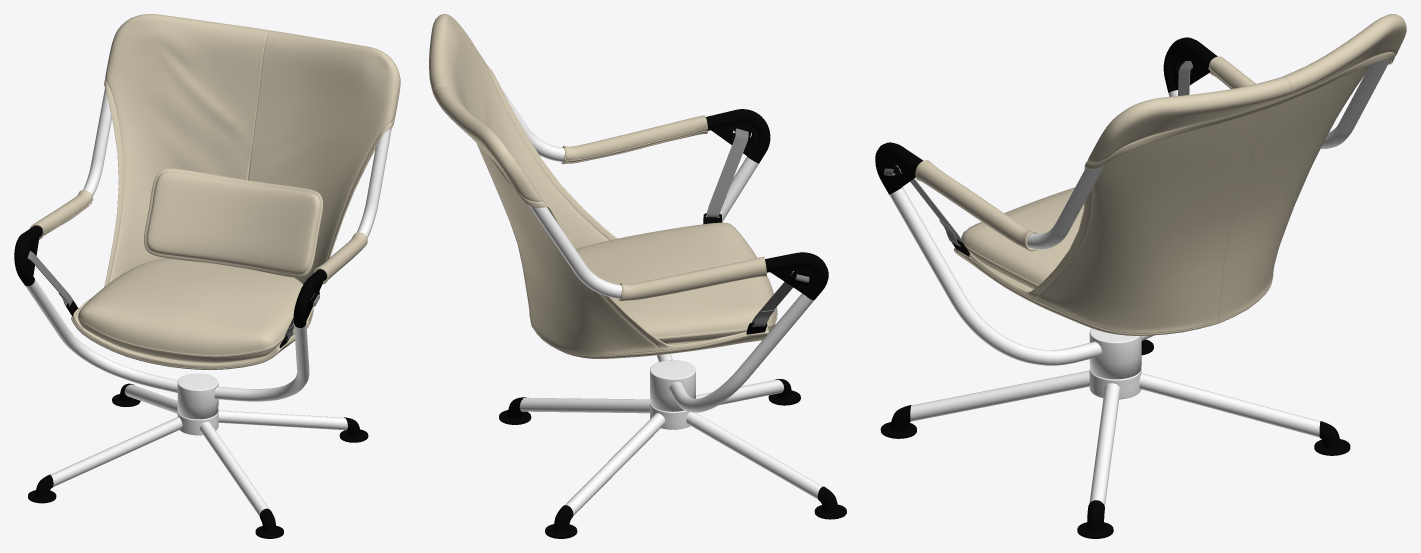
File: chair_swivel.fbx
The picture shows the model from 3 angles, left to right: view 1: azimuth 30°, elevation 25°; view 2: azimuth 150°, elevation 25°; view 3: azimuth 270°, elevation 25°; orthographic projection. The views are drawn at different scales.
Visible parts, largest first — view 1: vitra_waver; view 2: vitra_waver; view 3: vitra_waver.
Boxes of the visible parts, x1,y1,x2,y2 form: vitra_waver: [14, 14, 400, 538]; vitra_waver: [429, 14, 846, 538]; vitra_waver: [875, 14, 1406, 538].
Size of the model in its own units: 0.905 by 0.8606 by 0.9057.
